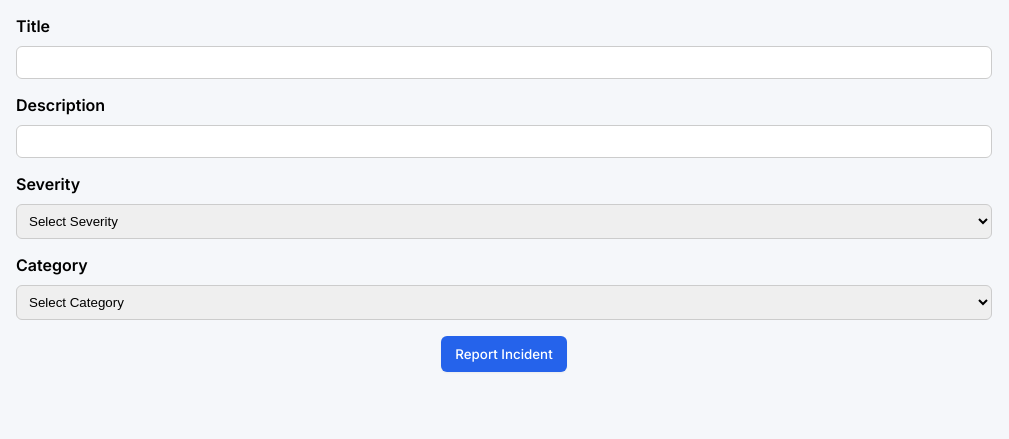
Scenario: IncidentForm › shows success message after submission
This screenshot has width=1009, height=439.
In the field labelled "Title": (504, 62) [16,46,992,79], type "Server down"
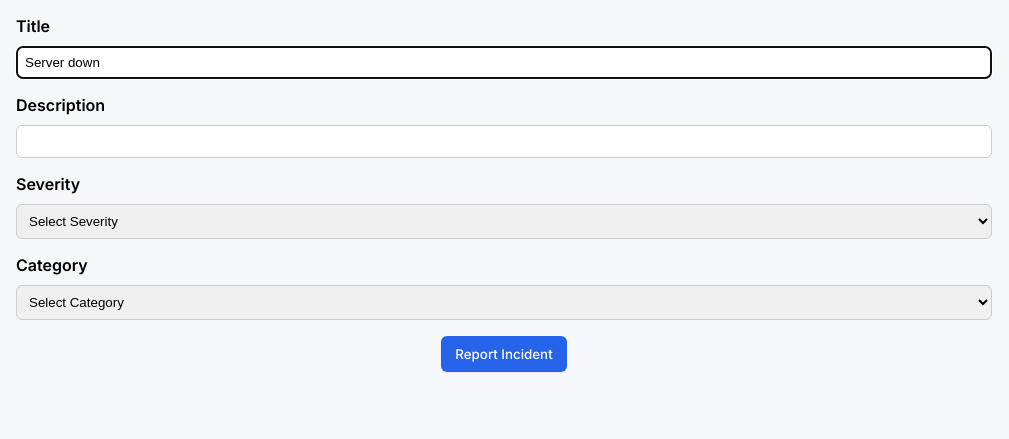
In the field labelled "Description": (504, 142) [16,125,992,158], type "Server is not responding properly"
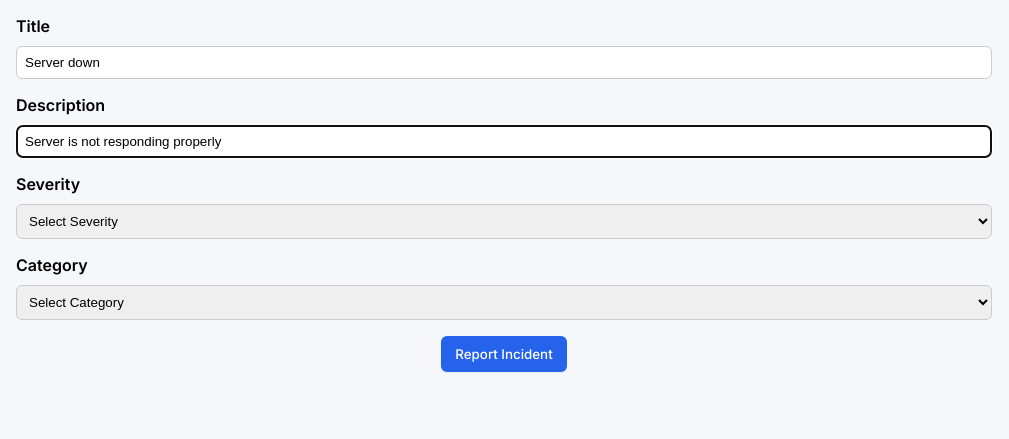
Select "High" in the dropdown labelled "Severity": (504, 222) [16,204,992,239]
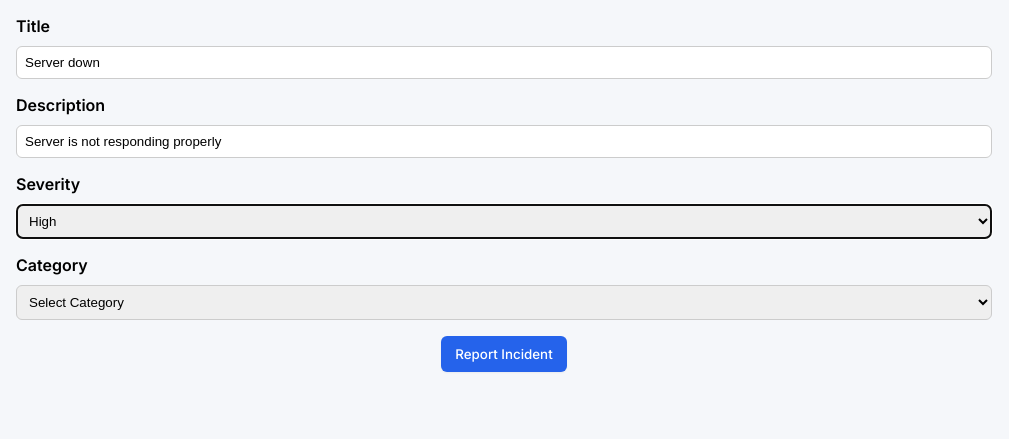
Select "Backend" in the dropdown labelled "Category": (504, 302) [16,285,992,320]
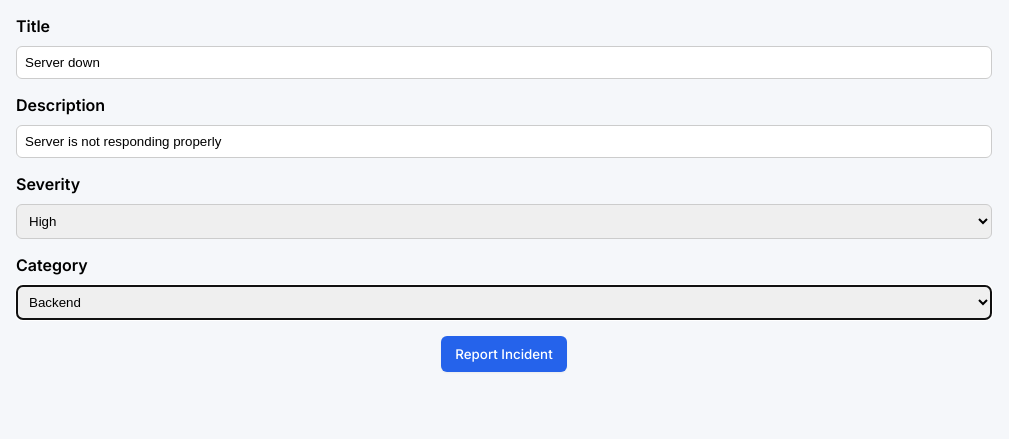
Click the button "Report Incident": (504, 354) [441,336,567,372]
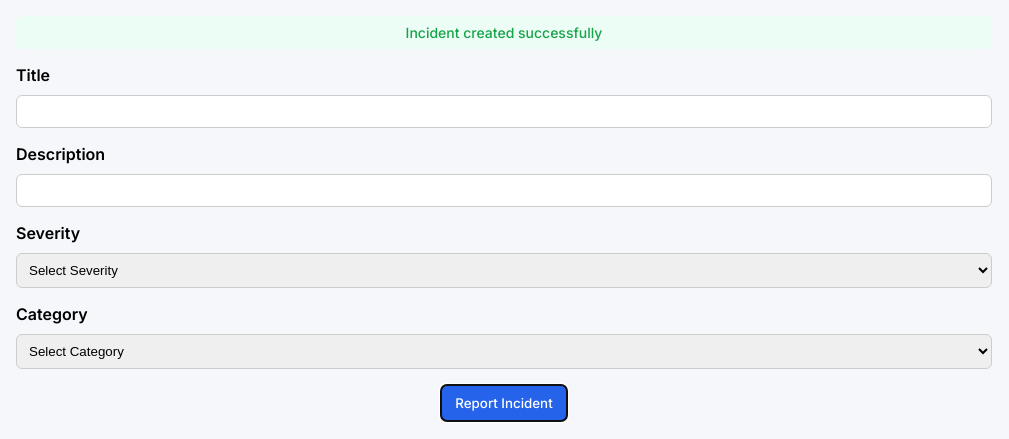
Now the text "Incident created successfully" is shown, box [16,16,992,49]
